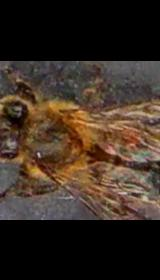varroa_mite: (111, 122, 145, 152)
